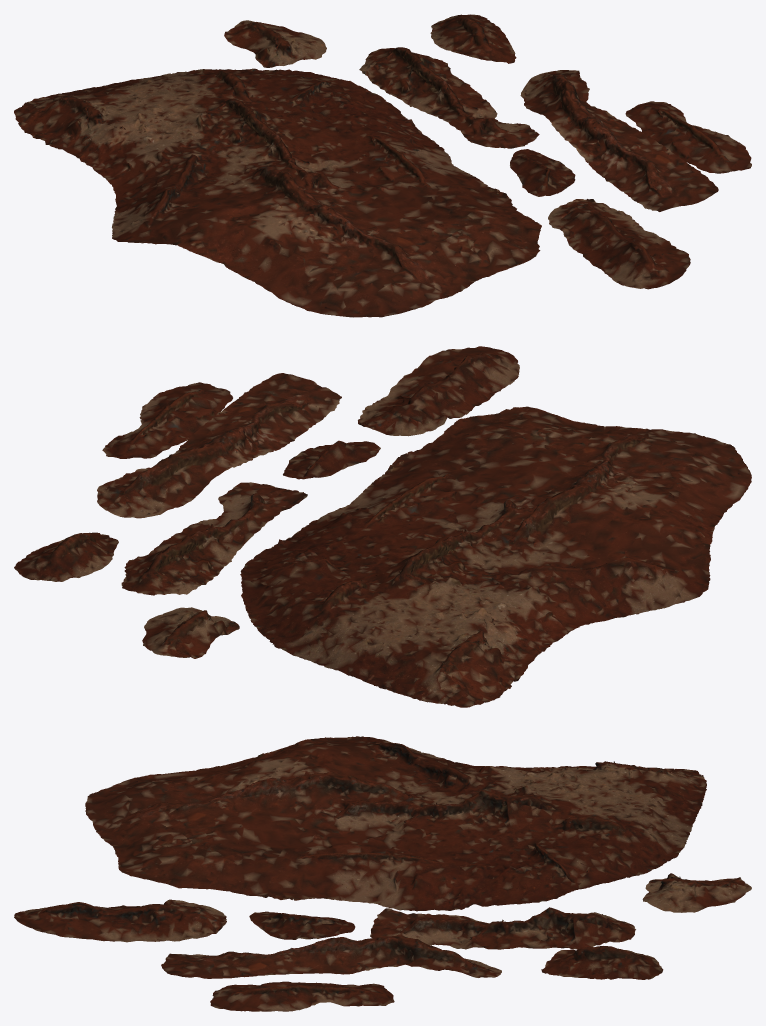
Rendered from root_cluster_02.glb.
3 renders of one model, top to bottom at view 1: azimuth 30°, elevation 25°; view 2: azimuth 150°, elevation 25°; view 3: azimuth 270°, elevation 25°, orthographic. The views are drawn at different scales.
Bounding box in the file's own units: 2.38 × 0.1982 × 2.71.
1 material, 1 textured.
